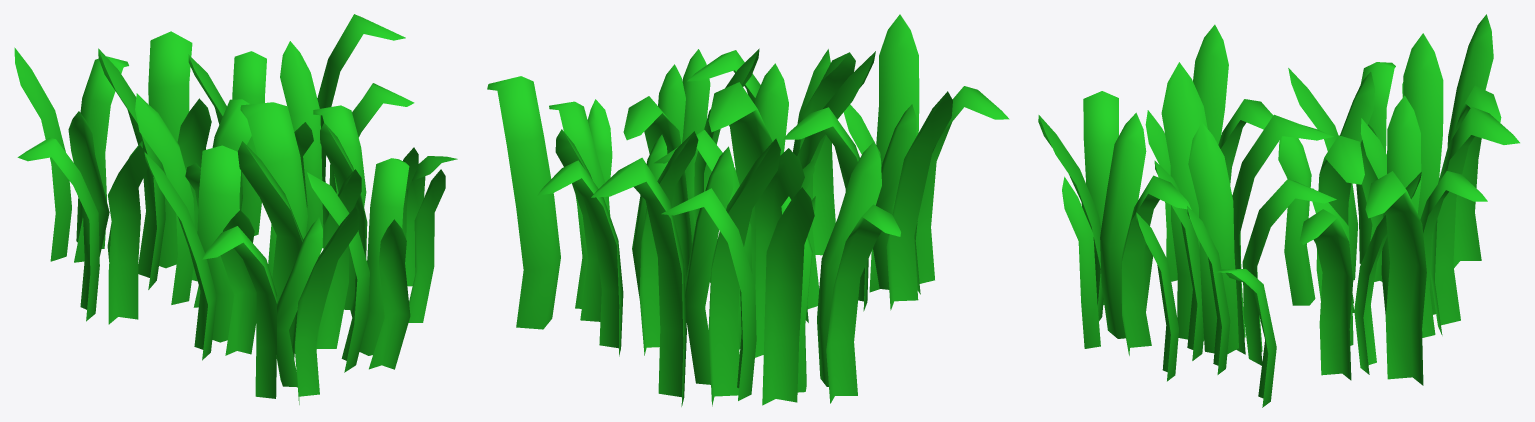
Rendered from Grass.fbx.
3 renders of one model, left to right at view 1: azimuth 30°, elevation 25°; view 2: azimuth 150°, elevation 25°; view 3: azimuth 270°, elevation 25°, orthographic. The views are drawn at different scales.
Parts seen in each view (by area): view 1: Grass; view 2: Grass; view 3: Grass.
Part boxes in pixels (left/top/right/bottom): Grass: left=14, top=14, right=457, bottom=404; Grass: left=487, top=14, right=1009, bottom=406; Grass: left=1038, top=14, right=1519, bottom=407.
Size of the model in its own units: 34.28 by 21.96 by 36.19.
